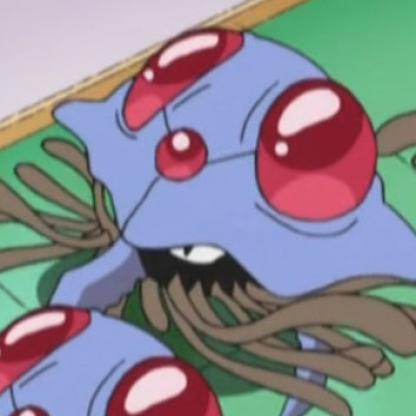Tentacruel: (7, 28, 416, 368)
